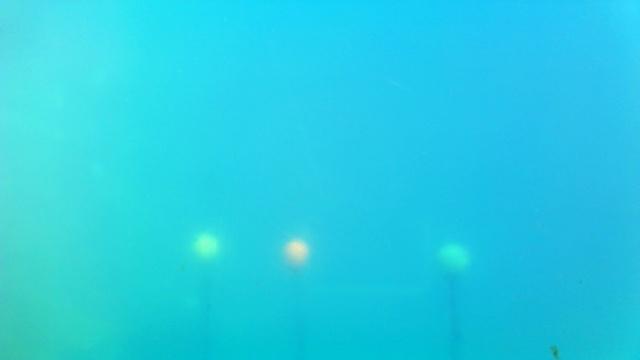buoy_red: (284, 237, 308, 270)
